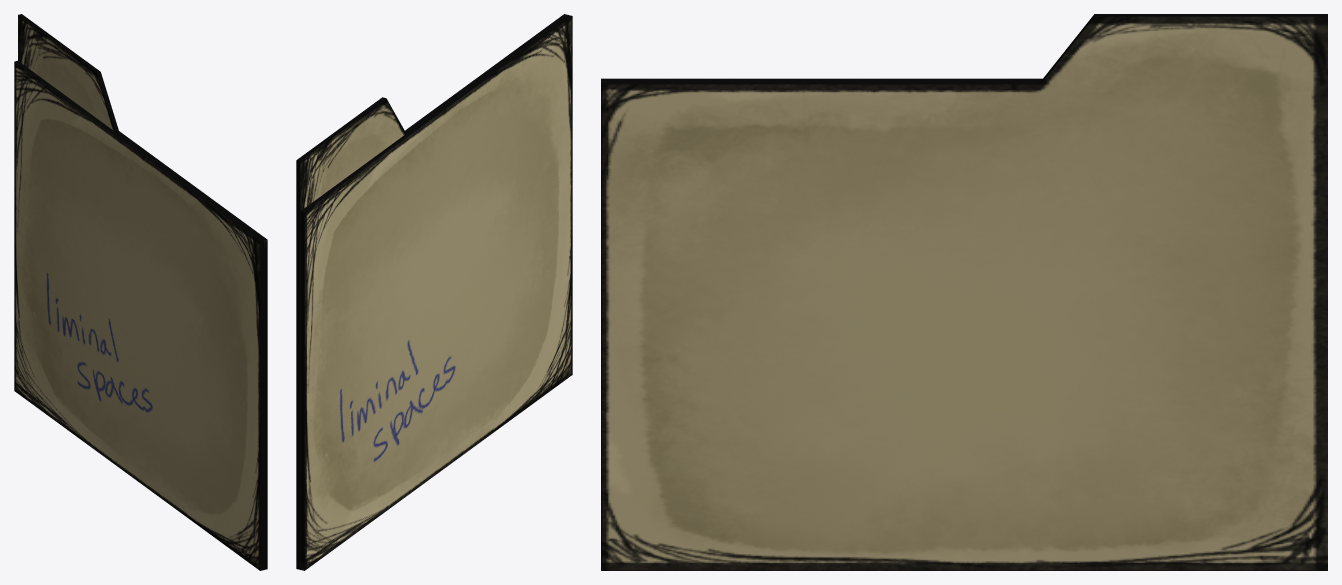
File: folder_box.fbx
The picture shows the model from 3 angles, left to right: view 1: azimuth 30°, elevation 25°; view 2: azimuth 150°, elevation 25°; view 3: azimuth 270°, elevation 25°; orthographic projection. The views are drawn at different scales.
Visible parts, largest first — view 1: folder_front.004, folder_box; view 2: folder_front.004, folder_box; view 3: folder_box, folder_front.004.
Part boxes in pixels (bbox=[...]): folder_front.004: bbox=[14, 60, 263, 570]; folder_box: bbox=[18, 14, 267, 569]; folder_front.004: bbox=[300, 15, 572, 570]; folder_box: bbox=[296, 14, 567, 569]; folder_box: bbox=[601, 14, 1327, 570]; folder_front.004: bbox=[601, 78, 1042, 81].
Bounding box in the file's own units: 0.0113 × 0.5374 × 0.6385.
Materials: 2 (2 with a texture image).
